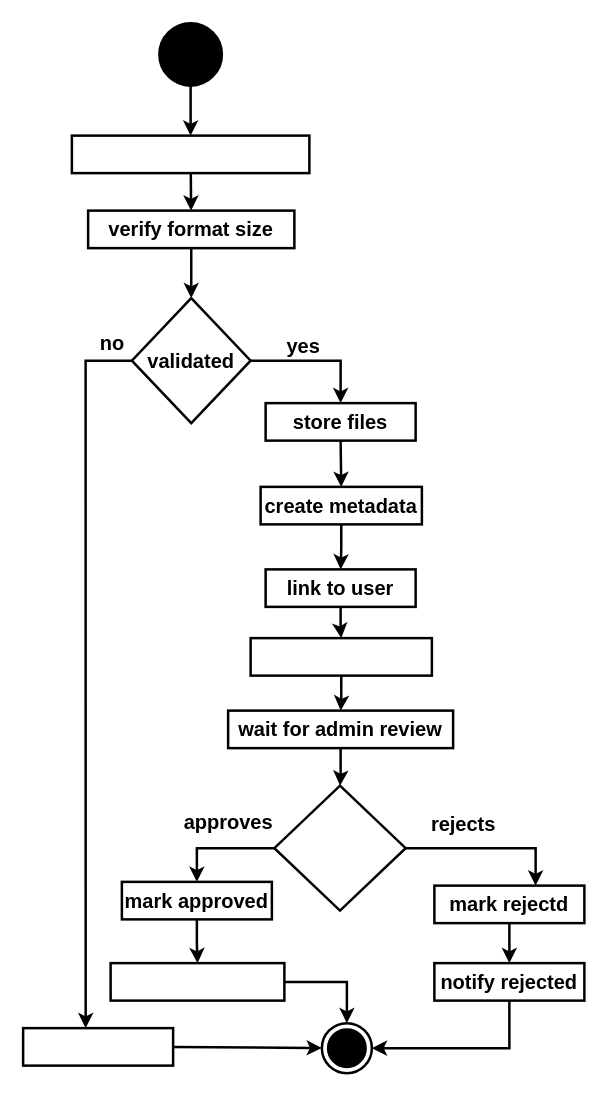
Some shapes in this 606 by 1095 pixel diagram are drawn without their labels. The shapes that lost their labels are listed below. From the top down, each one's centre as x and y in pixels, then its label:
point (190, 154): user upload documents
point (340, 656): for admin review
point (339, 847): admin decision
point (197, 981): notify approved
point (97, 1046): notify error
